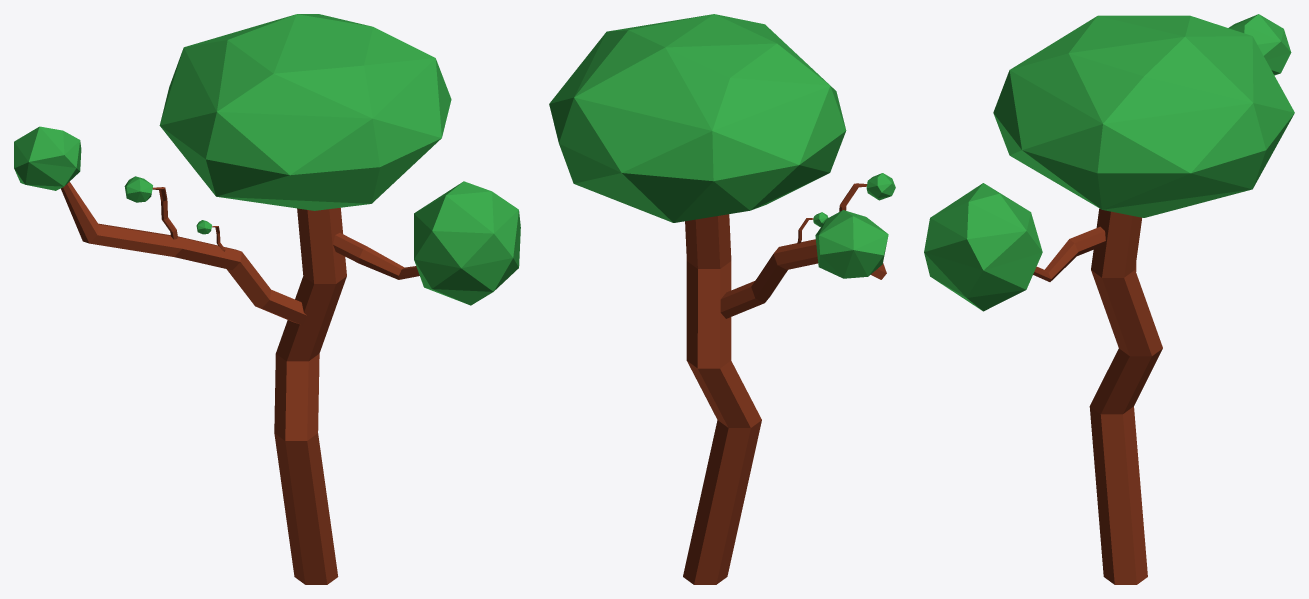
File: tree.8.fbx
3 views of the same model, side by side, from view 1: azimuth 30°, elevation 25°; view 2: azimuth 150°, elevation 25°; view 3: azimuth 270°, elevation 25° (orthographic).
Parts seen in each view (by area): view 1: Tree.008; view 2: Tree.008; view 3: Tree.008.
Boxes of the visible parts, x1,y1,x2,y2 form: Tree.008: (14, 14, 520, 584); Tree.008: (549, 14, 895, 584); Tree.008: (924, 14, 1294, 584).
Size of the model in its own units: 590 by 815 by 503.
